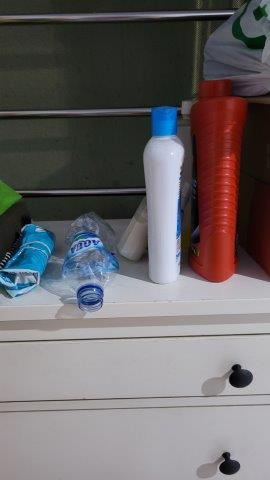botolplastik: (63, 210, 118, 310)
